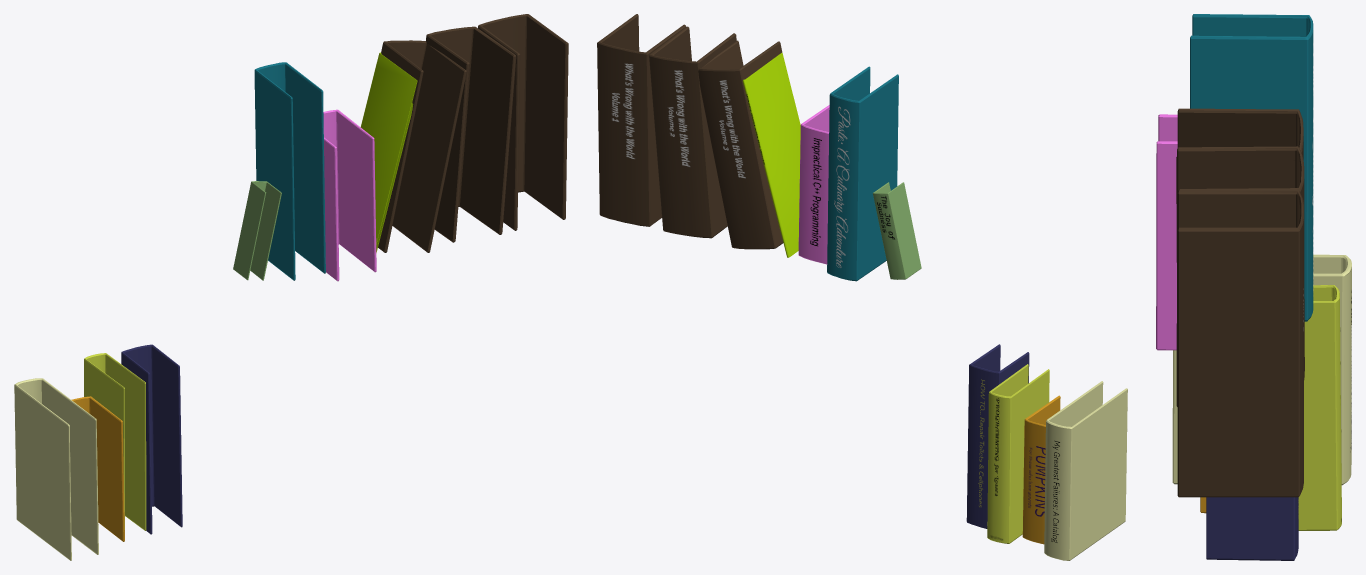
Rendered from kitchen-book2.obj.
3 views of the same model, side by side, from view 1: azimuth 30°, elevation 25°; view 2: azimuth 150°, elevation 25°; view 3: azimuth 270°, elevation 25° (orthographic). The views are drawn at different scales.
Visible parts, largest first — view 1: Cylinder.028_Cylinder.033, Cylinder.025_Cylinder.030, Cylinder.021_Cylinder.009, Cylinder.022_Cylinder.026, Cylinder.020_Cylinder.008, Cylinder.024_Cylinder.029, Cylinder.029_Cylinder.034, Cylinder.026_Cylinder.031, Cylinder.023_Cylinder.028, Cylinder.027_Cylinder.032, Cylinder.030_Cylinder.035; view 2: Cylinder.028_Cylinder.033, Cylinder.025_Cylinder.030, Cylinder.021_Cylinder.009, Cylinder.022_Cylinder.026, Cylinder.020_Cylinder.008, Cylinder.026_Cylinder.031, Cylinder.023_Cylinder.028, Cylinder.029_Cylinder.034, Cylinder.024_Cylinder.029, Cylinder.027_Cylinder.032, Cylinder.030_Cylinder.035; view 3: Cylinder.022_Cylinder.026, Cylinder.025_Cylinder.030, Cylinder.026_Cylinder.031, Cylinder.021_Cylinder.009, Cylinder.029_Cylinder.034, Cylinder.020_Cylinder.008, Cylinder.024_Cylinder.029, Cylinder.028_Cylinder.033.
Part boxes in pixels (bbox=[...]): Cylinder.028_Cylinder.033: bbox=[14, 378, 98, 560]; Cylinder.025_Cylinder.030: bbox=[254, 62, 325, 280]; Cylinder.021_Cylinder.009: bbox=[426, 26, 516, 242]; Cylinder.022_Cylinder.026: bbox=[478, 14, 568, 230]; Cylinder.020_Cylinder.008: bbox=[378, 40, 466, 252]; Cylinder.024_Cylinder.029: bbox=[323, 109, 376, 281]; Cylinder.029_Cylinder.034: bbox=[121, 344, 182, 534]; Cylinder.026_Cylinder.031: bbox=[84, 353, 146, 530]; Cylinder.023_Cylinder.028: bbox=[360, 52, 417, 252]; Cylinder.027_Cylinder.032: bbox=[71, 396, 124, 541]; Cylinder.030_Cylinder.035: bbox=[233, 181, 281, 280]; Cylinder.028_Cylinder.033: bbox=[1044, 381, 1127, 560]; Cylinder.025_Cylinder.030: bbox=[827, 66, 898, 281]; Cylinder.021_Cylinder.009: bbox=[649, 26, 736, 238]; Cylinder.022_Cylinder.026: bbox=[597, 14, 686, 226]; Cylinder.020_Cylinder.008: bbox=[698, 40, 783, 249]; Cylinder.026_Cylinder.031: bbox=[987, 364, 1049, 543]; Cylinder.023_Cylinder.028: bbox=[742, 53, 800, 257]; Cylinder.029_Cylinder.034: bbox=[966, 344, 1029, 528]; Cylinder.024_Cylinder.029: bbox=[798, 105, 829, 264]; Cylinder.027_Cylinder.032: bbox=[1022, 395, 1060, 544]; Cylinder.030_Cylinder.035: bbox=[872, 182, 921, 279]; Cylinder.022_Cylinder.026: bbox=[1177, 190, 1303, 497]; Cylinder.025_Cylinder.030: bbox=[1190, 14, 1313, 321]; Cylinder.026_Cylinder.031: bbox=[1298, 285, 1341, 530]; Cylinder.021_Cylinder.009: bbox=[1176, 146, 1304, 406]; Cylinder.029_Cylinder.034: bbox=[1206, 497, 1298, 560]; Cylinder.020_Cylinder.008: bbox=[1176, 108, 1304, 379]; Cylinder.024_Cylinder.029: bbox=[1156, 114, 1177, 350]; Cylinder.028_Cylinder.033: bbox=[1172, 254, 1351, 485].
Size of the model in its own units: 1.98 by 1.54 by 0.437.
Materials: 1 (1 with a texture image).
